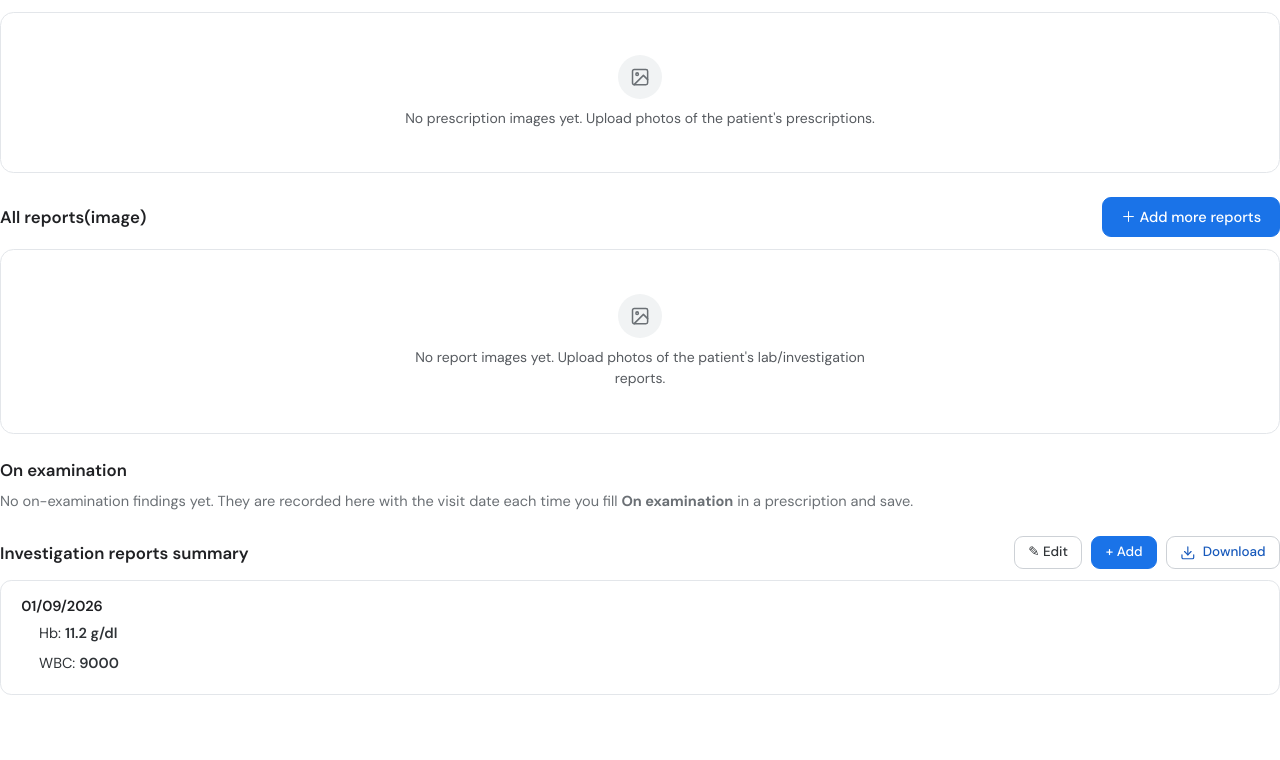
Scenario: PatientRecordsView — history delete and Undo › keeps the Undo bar with the reason when the Undo did not save
The width and height of the screenshot is (1280, 760).
Click the button "✎ Edit" at (1048, 552), box [1014,536,1082,569]
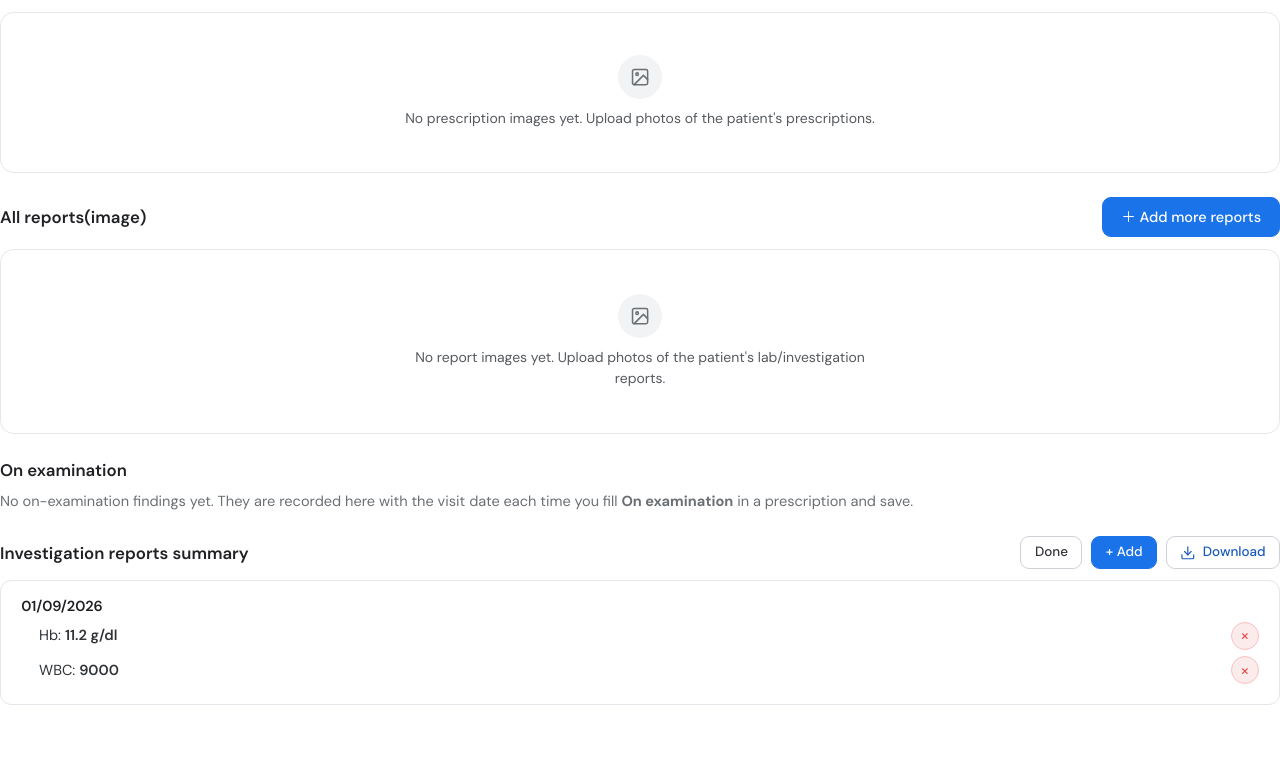
Click the button named "Delete finding" at (1245, 636), box [1231,622,1259,650]
(page scrolled)
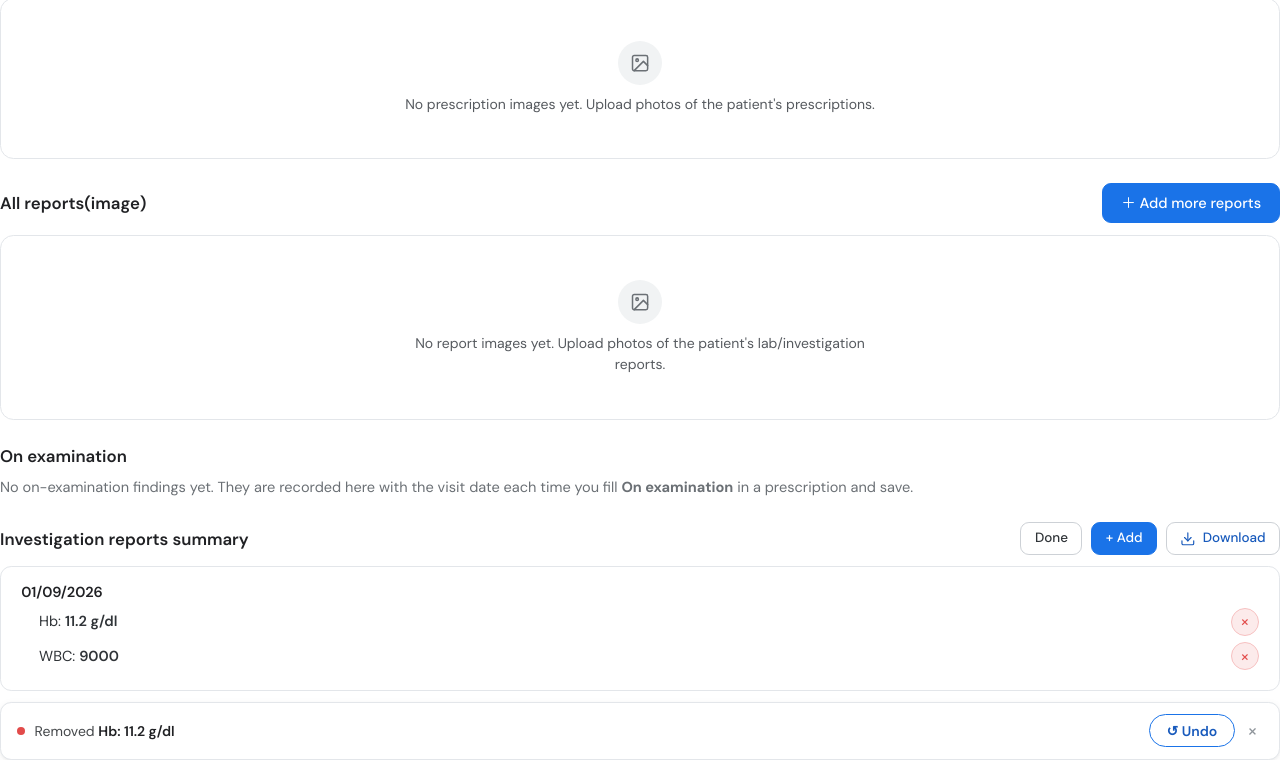
Click the button "↺ Undo" at (1192, 731), box [1149,714,1235,747]
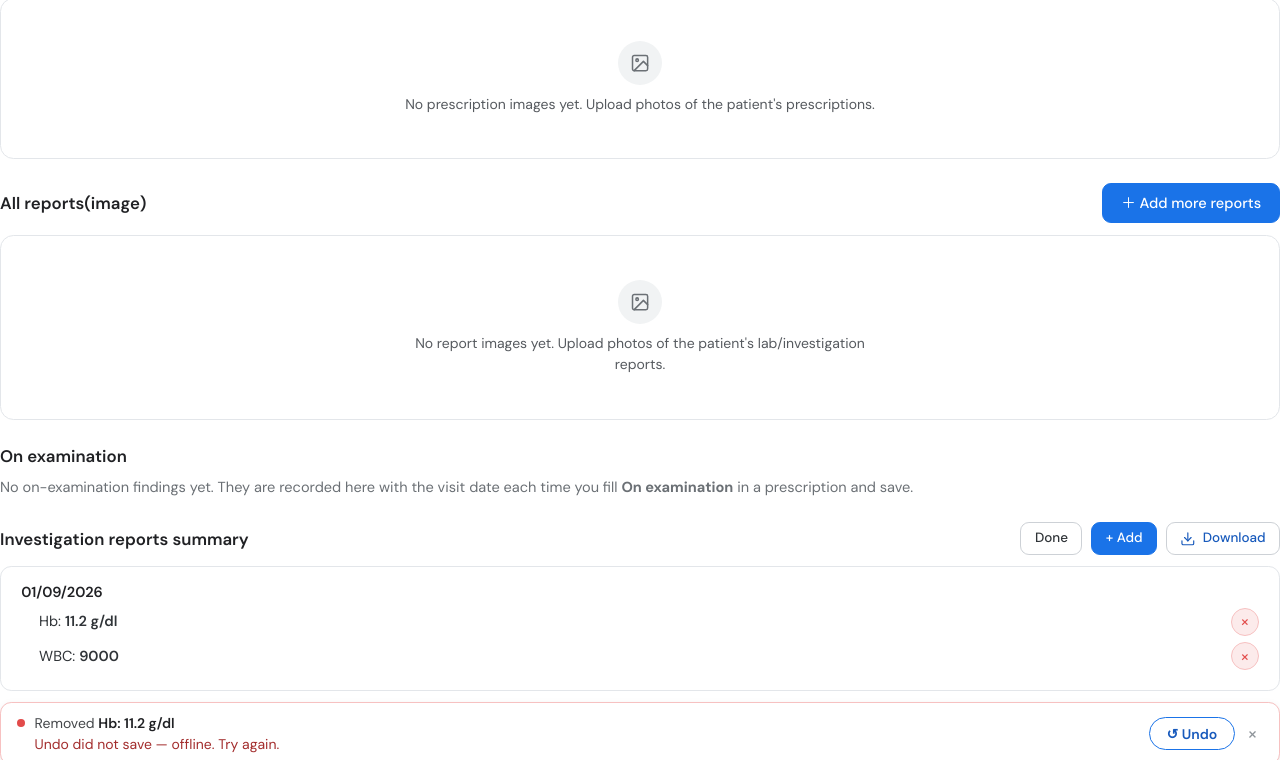
Now the button "↺ Undo" is shown, box [1149,717,1235,750]
Now the text "Undo did not save — offline. Try again." is shown, box [17,735,279,753]
